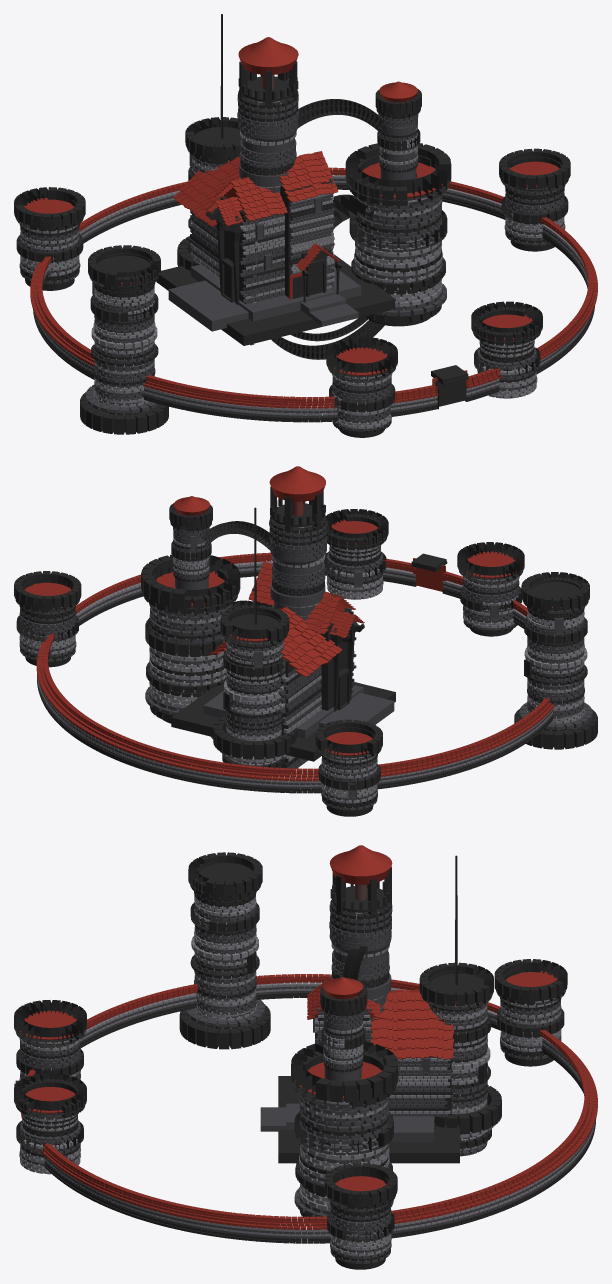
The model's file is CastleFull.fbx.
The picture shows the model from 3 angles, top to bottom: view 1: azimuth 30°, elevation 25°; view 2: azimuth 150°, elevation 25°; view 3: azimuth 270°, elevation 25°; orthographic projection. The views are drawn at different scales.
Parts seen in each view (by area): view 1: CastleKeep, CastleWall, Door_OuterGate; view 2: CastleWall, CastleKeep, Door_OuterGateFrame; view 3: CastleWall, CastleKeep.
Part boxes in pixels (left/top/right/bottom): CastleKeep: left=156, top=14, right=451, bottom=359; CastleWall: left=14, top=148, right=597, bottom=437; Door_OuterGate: left=435, top=380, right=465, bottom=406; CastleWall: left=14, top=509, right=597, bottom=816; CastleKeep: left=141, top=466, right=395, bottom=776; Door_OuterGateFrame: left=413, top=558, right=445, bottom=591; CastleWall: left=14, top=852, right=597, bottom=1269; CastleKeep: left=260, top=845, right=501, bottom=1228.
Size of the model in its own units: 6812 by 3925 by 6081.
